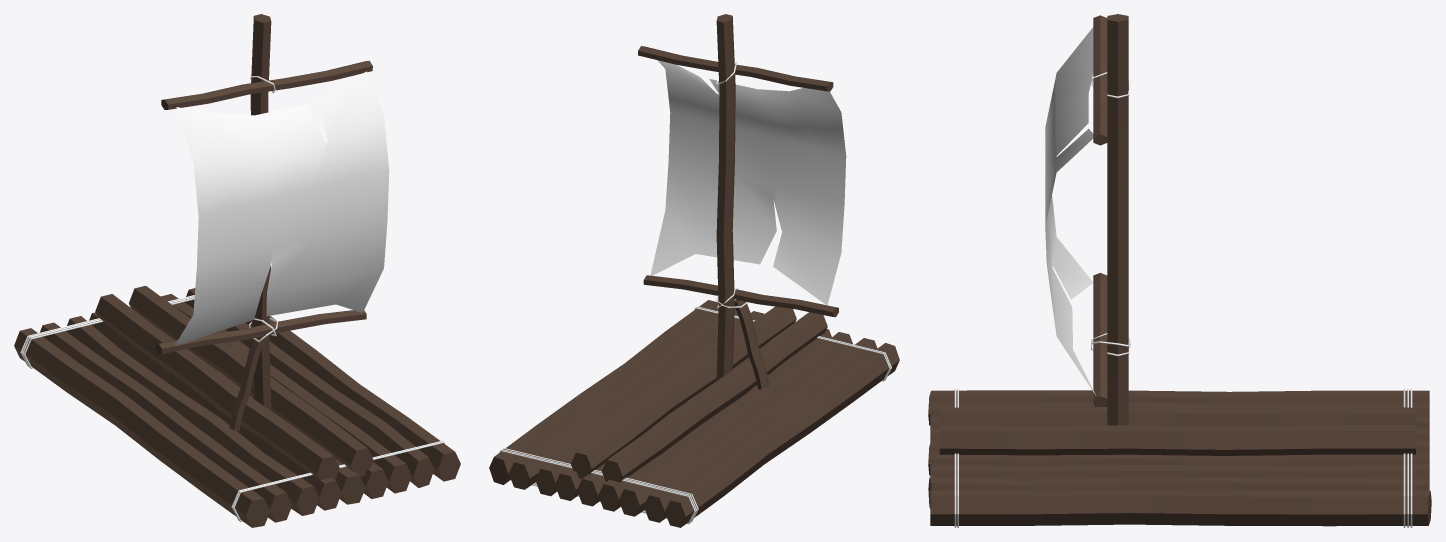
Rendered from castaway_raft.obj.
The picture shows the model from 3 angles, left to right: view 1: azimuth 30°, elevation 25°; view 2: azimuth 150°, elevation 25°; view 3: azimuth 270°, elevation 25°; orthographic projection. The views are drawn at different scales.
Parts seen in each view (by area): view 1: raft pPlane1, raft pCylinder8, raft pCylinder11, raft pCylinder10, raft pCylinder4, raft pCylinder7, raft pCylinder9, raft pCylinder6, raft pCylinder3, raft pCylinder12, raft pCylinder5, raft pCylinder14 (+4 smaller); view 2: raft pPlane1, raft pCylinder8, raft pCylinder11, raft pCylinder10, raft pCylinder12, raft pCylinder4, raft pCylinder9, raft pCylinder7, raft pCylinder6, raft pCylinder5, raft pCylinder3, raft pCylinder14 (+4 smaller); view 3: raft pCylinder9, raft pCylinder10, raft pCylinder12, raft pCylinder11, raft pPlane1, raft pCylinder5, raft pCylinder6, raft pCylinder8, raft pCylinder2, raft pCylinder7, raft pCylinder13, raft pCylinder14.
Boxes of the visible parts, x1,y1,x2,y2 form: raft pPlane1: (174,71,389,346); raft pCylinder8: (14,328,270,527); raft pCylinder11: (95,294,339,480); raft pCylinder10: (129,285,373,476); raft pCylinder4: (66,316,319,515); raft pCylinder7: (39,322,292,522); raft pCylinder9: (245,316,460,481); raft pCylinder6: (184,288,434,487); raft pCylinder3: (89,312,341,510); raft pCylinder12: (250,14,271,409); raft pCylinder5: (161,294,411,493); raft pCylinder14: (161,60,372,109); raft pPlane1: (650,60,846,305); raft pCylinder8: (665,343,899,527); raft pCylinder11: (601,312,827,482); raft pCylinder10: (571,306,796,478); raft pCylinder12: (716,14,735,379); raft pCylinder4: (619,332,852,516); raft pCylinder9: (489,300,718,484); raft pCylinder7: (644,338,877,522); raft pCylinder6: (509,308,739,489); raft pCylinder5: (535,311,763,496); raft pCylinder3: (598,329,831,511); raft pCylinder14: (638,46,833,91); raft pCylinder9: (930,489,1431,526); raft pCylinder10: (939,425,1415,455); raft pCylinder12: (1107,14,1128,425); raft pCylinder11: (939,406,1415,426); raft pPlane1: (1045,27,1095,395); raft pCylinder5: (930,464,1429,479); raft pCylinder6: (928,477,1429,508); raft pCylinder8: (928,390,1429,425); raft pCylinder2: (930,453,1429,465); raft pCylinder7: (930,402,1429,416); raft pCylinder13: (1093,272,1107,407); raft pCylinder14: (1093,15,1107,145).
Size of the model in its own units: 8.67 by 15.69 by 15.72.
